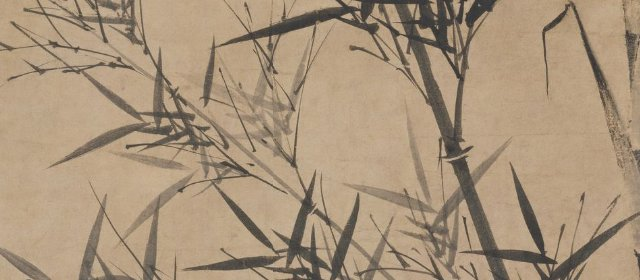bamboo: (285, 1, 532, 280), (1, 1, 243, 176)
